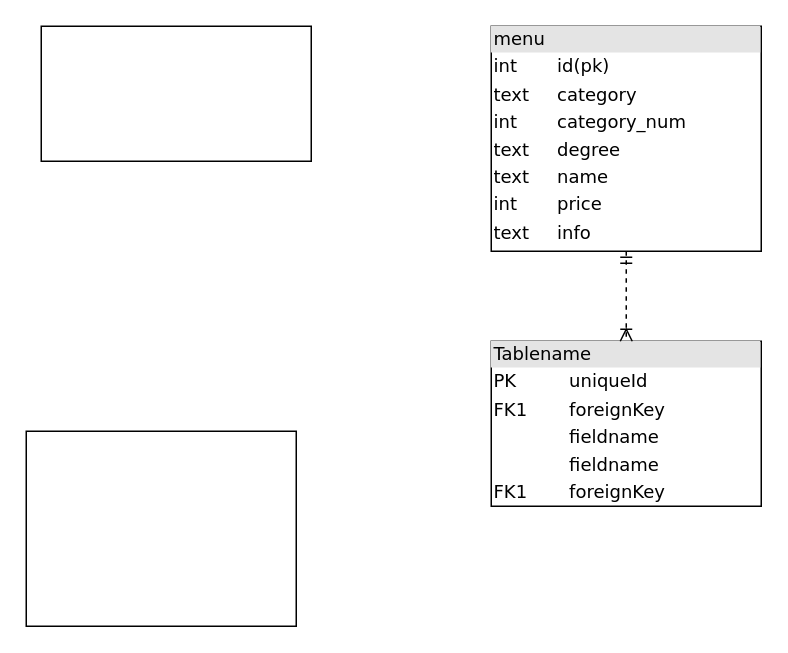
This 788x653 diagram has some shape labels left out. Here are the shapes that lost their labels. From the top down, the centre of each, then its label:
At point 175,93: "user_data int user_id(pk) text name int phone_number".
At point 160,528: "Tablename PK uniqueId FK1 foreignKey fieldname fieldname fieldname fieldname".
